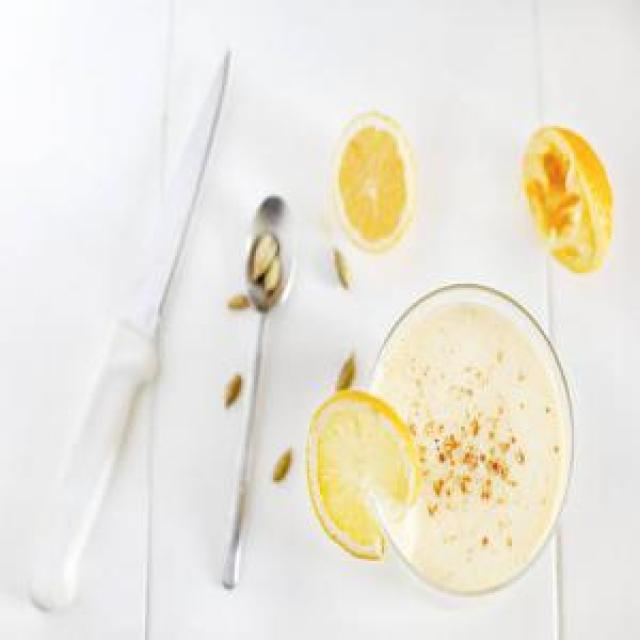knife: (30, 42, 232, 618)
